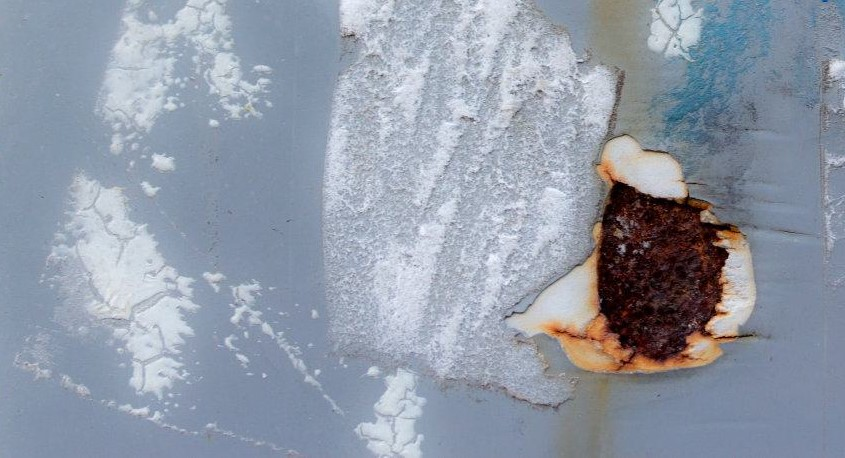Corrosion: (597, 179, 730, 365)
Spalling: (322, 1, 621, 412), (504, 133, 757, 376)
